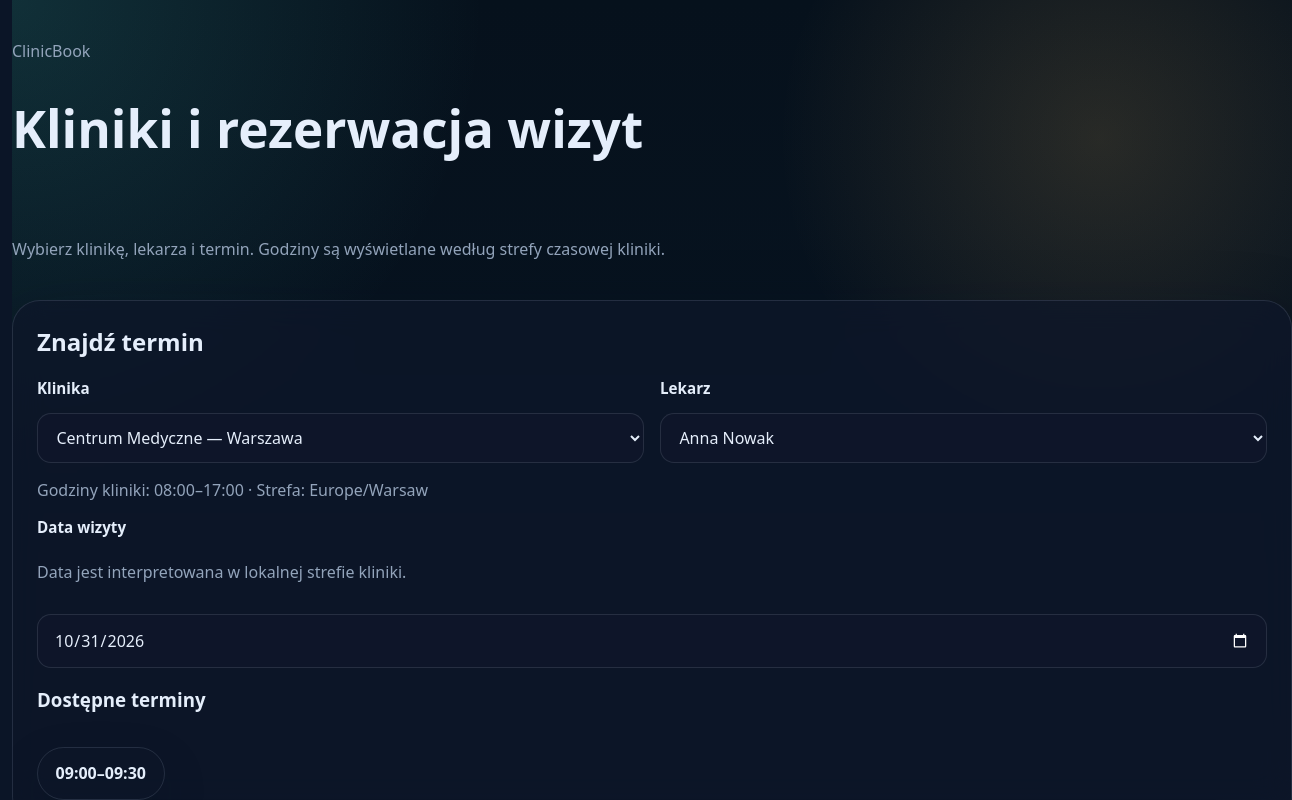
Test: Clinics page › books a slot returned by the clinic availability API
The image size is (1292, 800).
Click the button "09:00–09:30": [101, 773] box [37,747,164,799]
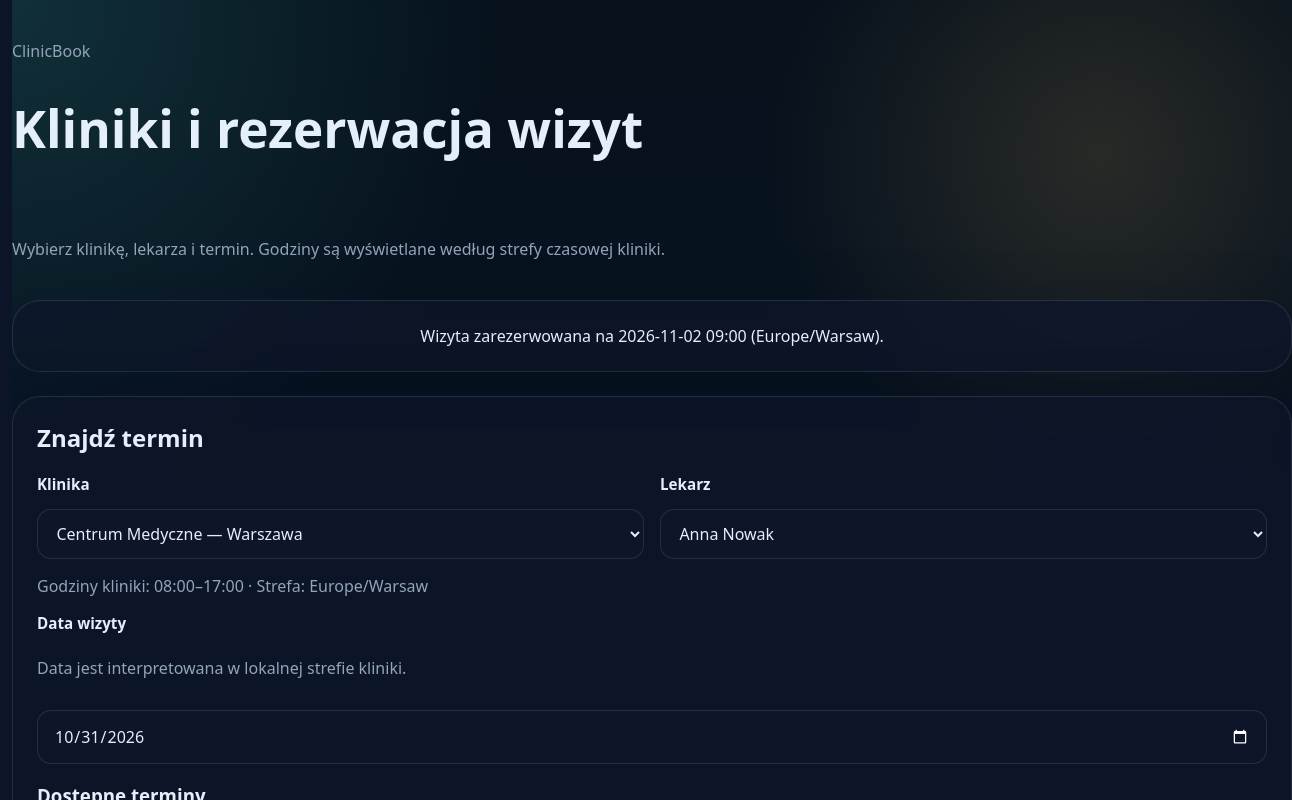
Expected: the message shows "Wizyta zarezerwowana na 2026-11-02 09:00", [420,325,884,347]
